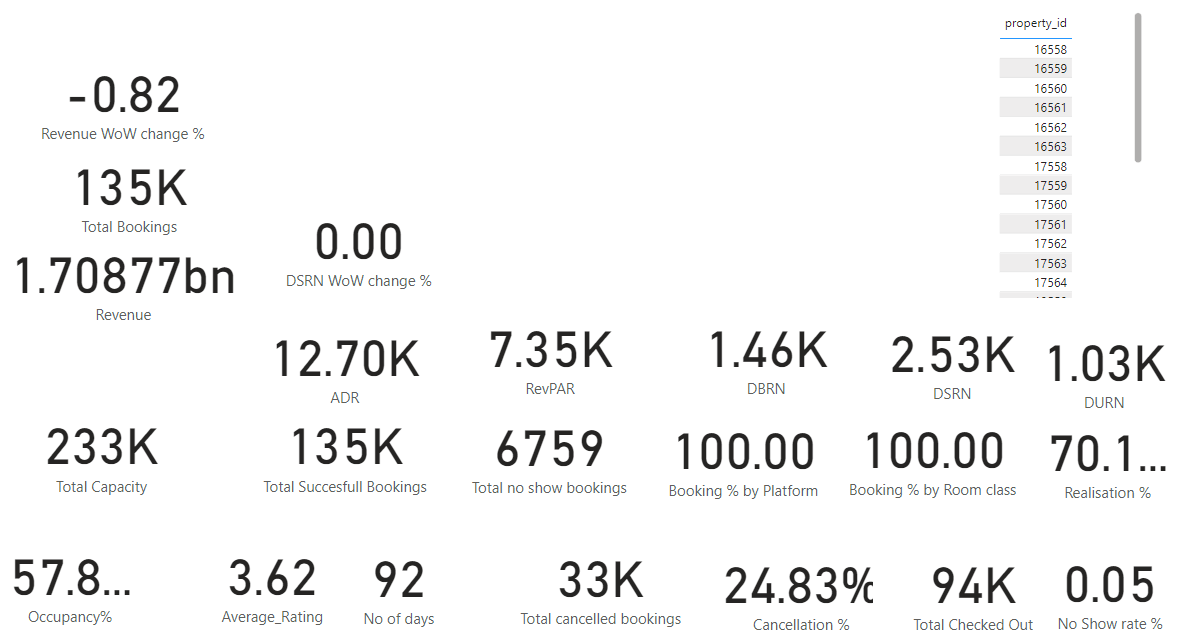

This screenshot's page, from the dashboard's own definition file:
{"tool":"powerbi","page":{"name":"Page 1","canvas":[1280,720],"ordinal":0},"visuals":[{"type":"card","fields":{"Values":["key_measures_tables.Revenue"]},"box":[0,207.9,272.1,245.7],"z":0},{"type":"tableEx","fields":{"Values":["dim_hotels.property_id"]},"box":[1077.2,37.8,164.4,317.5],"z":1000},{"type":"card","fields":{"Values":["key_measures_tables.Total Bookings"]},"box":[13.2,175.7,258.9,117.2],"z":2000},{"type":"card","fields":{"Values":["key_measures_tables.Total Capacity"]},"box":[0,419.5,224.9,190.9],"z":3000},{"type":"card","fields":{"Values":["key_measures_tables.Total Succesfull Bookings"]},"box":[224.9,419.5,300.5,190.9],"z":4000},{"type":"card","fields":{"Values":["key_measures_tables.Occupancy%"]},"box":[0,593.4,156.9,126.6],"z":5000},{"type":"card","fields":{"Values":["key_measures_tables.Average_Rating"]},"box":[202.2,593.4,189,126.6],"z":6000},{"type":"card","fields":{"Values":["key_measures_tables.No of days"]},"box":[376.1,600.9,115.3,113.4],"z":7000},{"type":"card","fields":{"Values":["key_measures_tables.Total cancelled bookings"]},"box":[525.4,595.3,253.2,124.7],"z":8000},{"type":"card","fields":{"Values":["key_measures_tables.Cancellation %"]},"box":[750.2,606.6,236.2,113.4],"z":9000},{"type":"card","fields":{"Values":["key_measures_tables.Total Checked Out"]},"box":[944.9,606.6,215.4,113.4],"z":10000},{"type":"card","fields":{"Values":["key_measures_tables.Total no show bookings"]},"box":[500.8,455.4,190.9,122.8],"z":11000},{"type":"card","fields":{"Values":["key_measures_tables.No Show rate %"]},"box":[1124.4,610.4,155,105.8],"z":12000},{"type":"card","fields":{"Values":["key_measures_tables.Booking % by Room class"]},"box":[895.8,455.4,228.7,126.6],"z":13000},{"type":"card","fields":{"Values":["key_measures_tables.ADR"]},"box":[249.5,360.9,251.3,117.2],"z":14000},{"type":"card","fields":{"Values":["key_measures_tables.Booking % by Platform"]},"box":[716.2,436.5,179.5,164.4],"z":15000},{"type":"card","fields":{"Values":["key_measures_tables.Realisation %"]},"box":[1124.4,464.9,149.3,113.4],"z":16000},{"type":"card","fields":{"Values":["key_measures_tables.RevPAR"]},"box":[489.5,355.3,215.4,109.6],"z":17000},{"type":"card","fields":{"Values":["key_measures_tables.DBRN"]},"box":[716.2,342,228.7,136.1],"z":18000},{"type":"card","fields":{"Values":["key_measures_tables.DSRN"]},"box":[916.5,359.1,228.7,111.5],"z":19000},{"type":"card","fields":{"Values":["key_measures_tables.DURN"]},"box":[1111.2,370.4,168.2,107.7],"z":20000},{"type":"card","fields":{"Values":["key_measures_tables.Revenue WoW change %"]},"box":[20.8,79.4,228.7,109.6],"z":21000},{"type":"card","fields":{"Values":["key_measures_tables.DSRN WoW change %"]},"box":[306.1,238.1,168.2,109.6],"z":22000}]}

Visuals, with their boxes in screenshot pixels (x1, y1, x2, y2):
card - key_measures_tables.Revenue: pyautogui.locateOnScreen(156, 131, 384, 336)
tableEx - dim_hotels.property_id: pyautogui.locateOnScreen(1056, 0, 1177, 254)
card - key_measures_tables.Total Bookings: pyautogui.locateOnScreen(167, 104, 384, 202)
card - key_measures_tables.Total Capacity: pyautogui.locateOnScreen(156, 307, 344, 467)
card - key_measures_tables.Total Succesfull Bookings: pyautogui.locateOnScreen(344, 307, 595, 467)
card - key_measures_tables.Occupancy%: pyautogui.locateOnScreen(156, 452, 287, 558)
card - key_measures_tables.Average_Rating: pyautogui.locateOnScreen(325, 452, 483, 558)
card - key_measures_tables.No of days: pyautogui.locateOnScreen(470, 459, 567, 553)
card - key_measures_tables.Total cancelled bookings: pyautogui.locateOnScreen(595, 454, 806, 558)
card - key_measures_tables.Cancellation %: pyautogui.locateOnScreen(783, 463, 980, 558)
card - key_measures_tables.Total Checked Out: pyautogui.locateOnScreen(945, 463, 1125, 558)
card - key_measures_tables.Total no show bookings: pyautogui.locateOnScreen(575, 337, 734, 440)
card - key_measures_tables.No Show rate %: pyautogui.locateOnScreen(1095, 467, 1177, 555)
card - key_measures_tables.Booking % by Room class: pyautogui.locateOnScreen(904, 337, 1095, 443)
card - key_measures_tables.ADR: pyautogui.locateOnScreen(365, 258, 575, 356)
card - key_measures_tables.Booking % by Platform: pyautogui.locateOnScreen(754, 321, 904, 459)
card - key_measures_tables.Realisation %: pyautogui.locateOnScreen(1095, 345, 1177, 440)
card - key_measures_tables.RevPAR: pyautogui.locateOnScreen(565, 254, 745, 345)
card - key_measures_tables.DBRN: pyautogui.locateOnScreen(754, 243, 945, 356)
card - key_measures_tables.DSRN: pyautogui.locateOnScreen(922, 257, 1113, 350)
card - key_measures_tables.DURN: pyautogui.locateOnScreen(1084, 266, 1177, 356)
card - key_measures_tables.Revenue WoW change %: pyautogui.locateOnScreen(174, 23, 365, 115)
card - key_measures_tables.DSRN WoW change %: pyautogui.locateOnScreen(412, 156, 552, 247)
